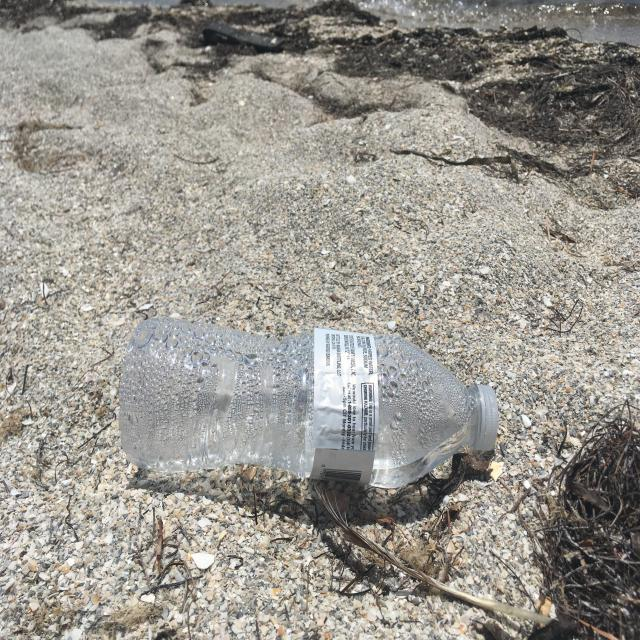litter: (118, 315, 499, 489)
